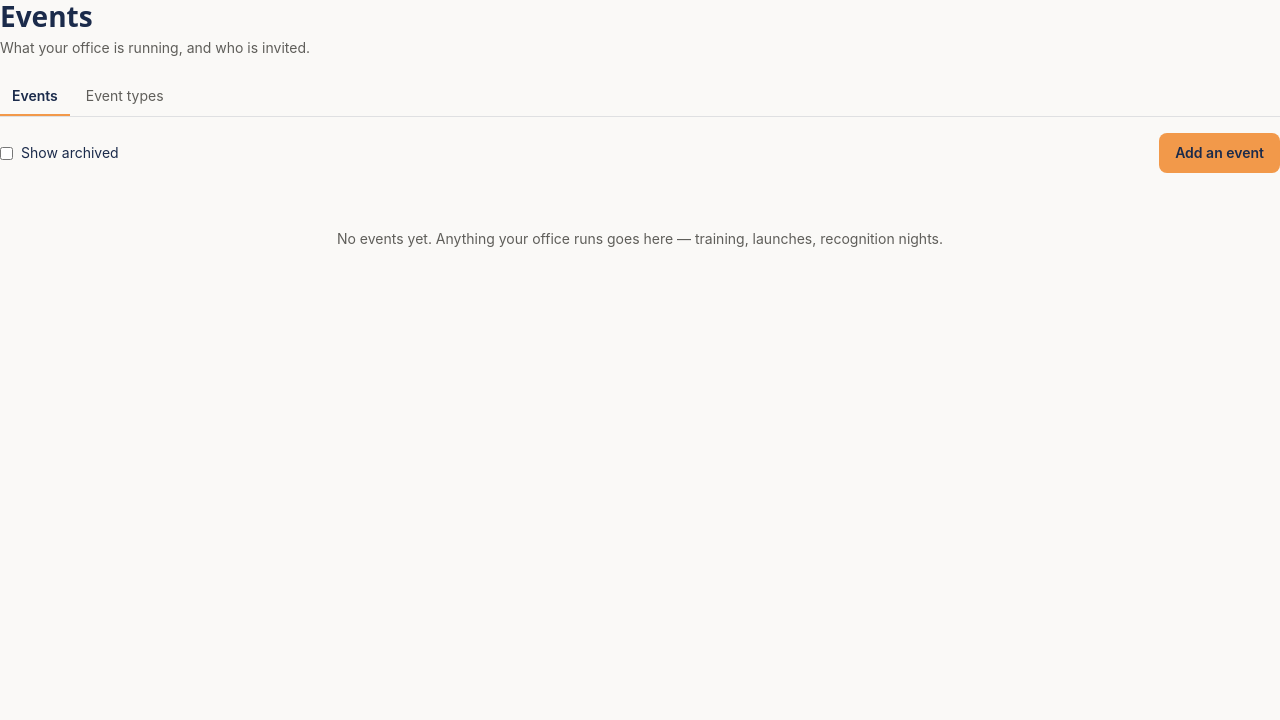
Test: the office’s Events screen › P18.5-T5 AC-10 Chosen leaders lists only members who lead somebody (the graph, not the title)
Click the button "Add an event" at (1220,153), box [1159,133,1279,173]
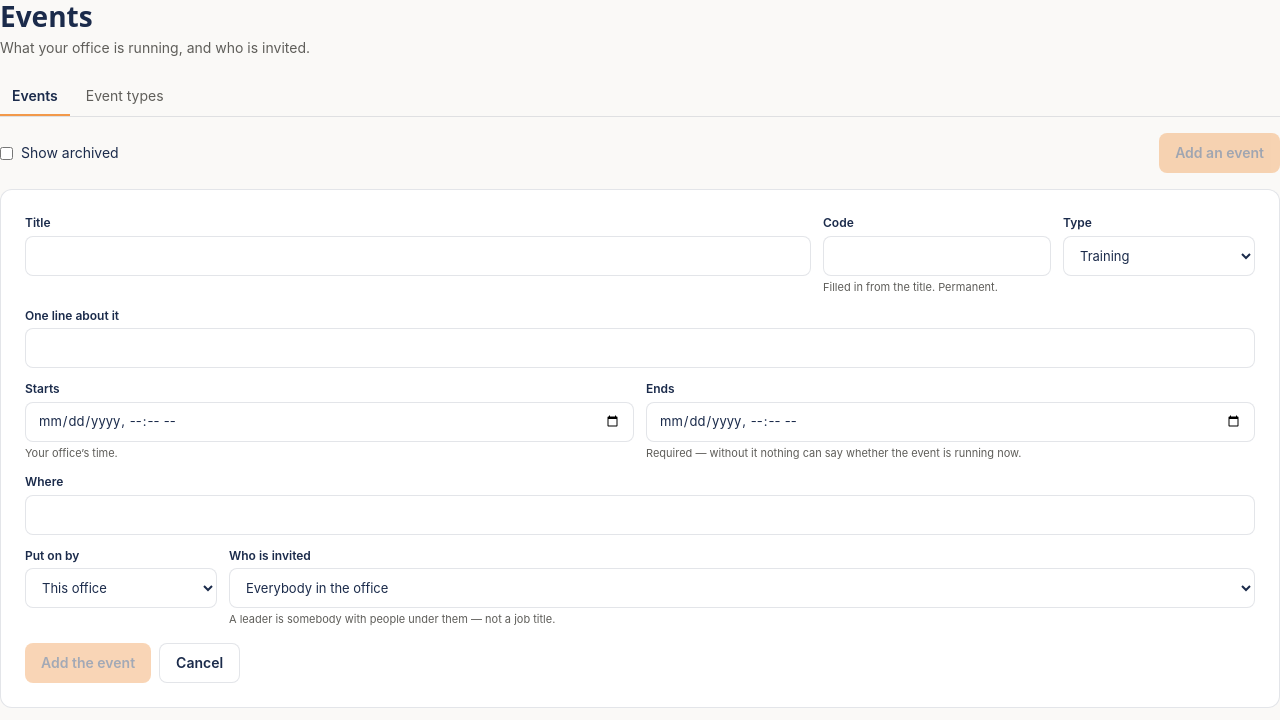
Select "Chosen leaders" in the dropdown labelled "Who is invited" at (742,588), box [229,568,1255,608]
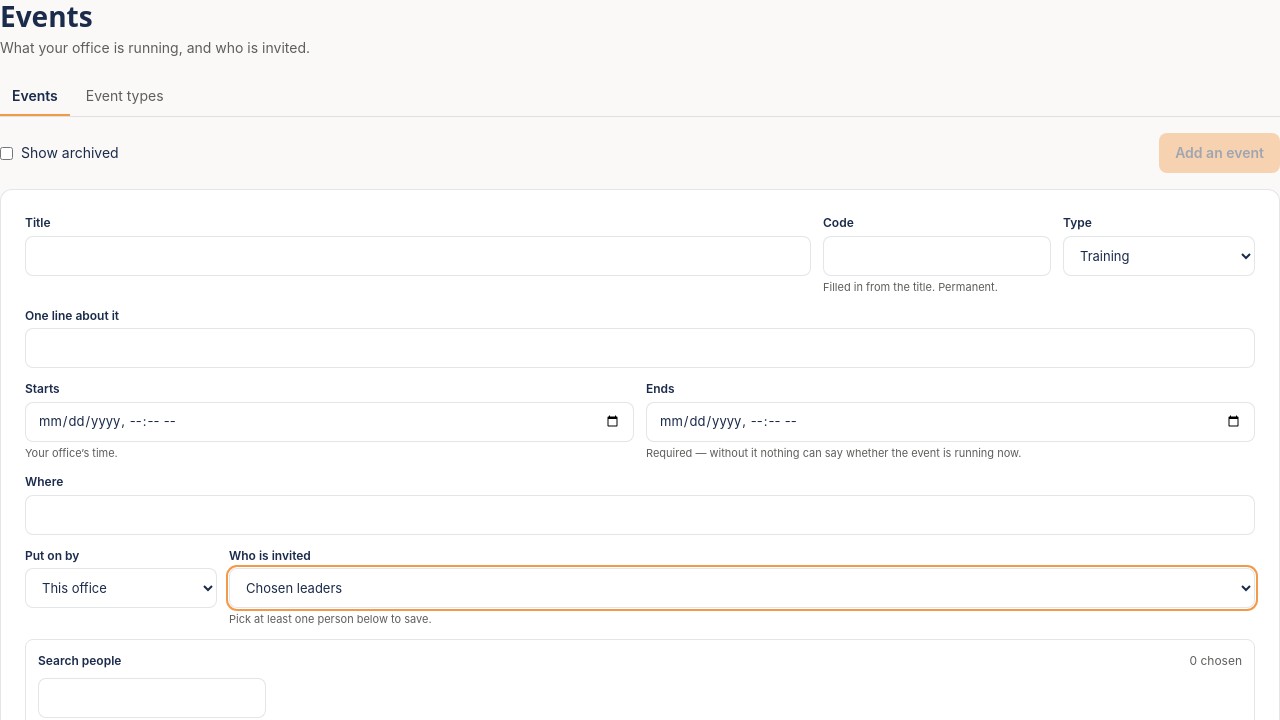
Now the search field labelled "Search people" is shown, box [38,678,266,718]
